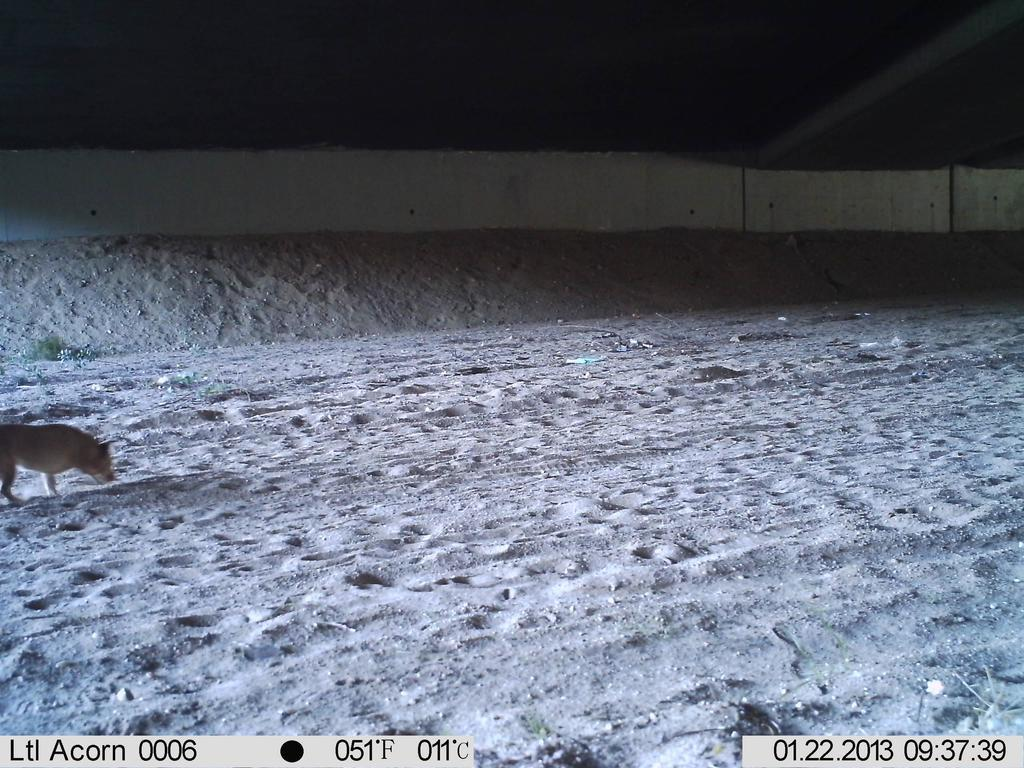dog: (7, 411, 129, 515)
